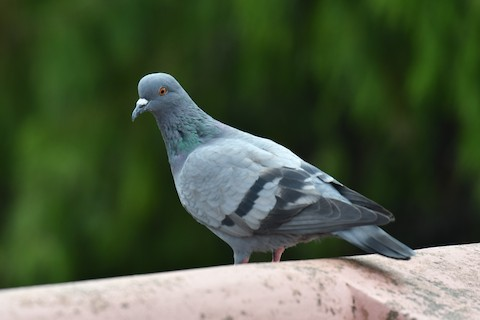pigeon: (128, 68, 419, 266)
